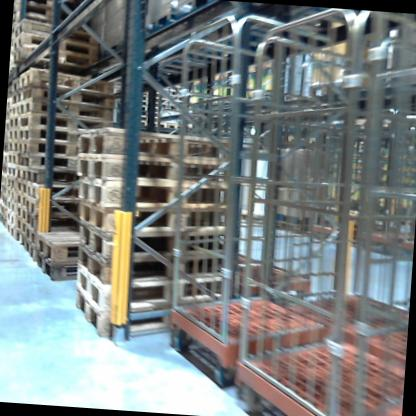pallet: (73, 246, 250, 304), (77, 259, 239, 320), (72, 215, 233, 272), (69, 289, 206, 347), (79, 121, 241, 166), (77, 171, 233, 217), (75, 190, 225, 237), (73, 150, 227, 189), (15, 65, 115, 103), (16, 91, 128, 124), (16, 81, 118, 113), (11, 45, 105, 79), (16, 108, 123, 135), (14, 31, 99, 60), (15, 19, 97, 45), (24, 180, 91, 210), (36, 227, 88, 265), (21, 219, 82, 249), (15, 123, 88, 148), (26, 195, 88, 221), (16, 151, 86, 174), (30, 165, 84, 192), (33, 254, 85, 282), (17, 137, 86, 156), (15, 3, 64, 23), (22, 211, 67, 231), (19, 236, 40, 260), (166, 123, 196, 137), (14, 188, 30, 211), (13, 175, 28, 199), (16, 0, 52, 9), (14, 212, 27, 234), (2, 197, 17, 215), (4, 184, 21, 199), (17, 166, 32, 182), (16, 201, 28, 221), (5, 164, 22, 178), (4, 171, 19, 186), (167, 100, 189, 109), (11, 225, 21, 244), (169, 89, 192, 97), (4, 210, 17, 224), (8, 138, 19, 154), (8, 115, 21, 128), (168, 94, 191, 101), (8, 154, 18, 169), (131, 120, 152, 127), (5, 223, 14, 239), (8, 103, 20, 115), (9, 128, 20, 140), (13, 77, 19, 95), (152, 123, 165, 129), (12, 95, 20, 104)
